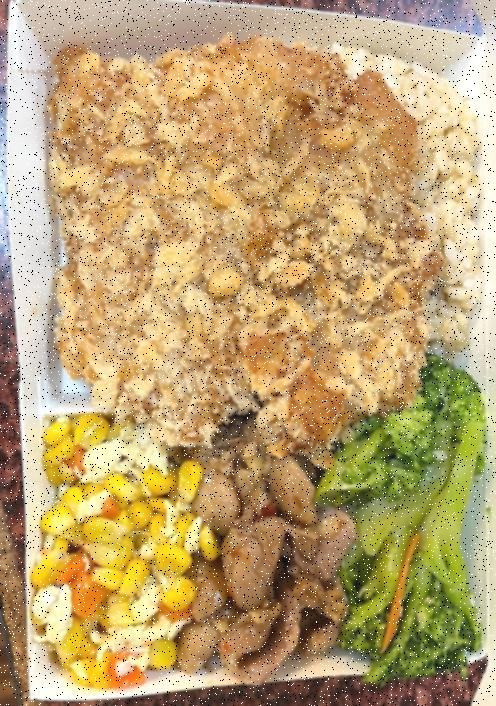box: (0, 0, 496, 706)
brown rice: (334, 42, 484, 363)
fried pork chops: (46, 36, 430, 437)
side dish: (341, 360, 485, 684), (36, 417, 189, 689)
three cup chicken: (186, 429, 346, 678)
